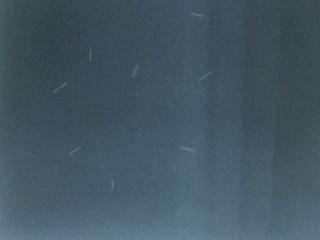scratch: (47, 76, 75, 99), (105, 171, 122, 197), (192, 67, 215, 86), (63, 141, 86, 160), (82, 44, 99, 69), (125, 60, 144, 82), (176, 141, 199, 158), (188, 6, 208, 24)
